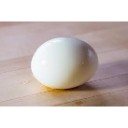begg: (30, 38, 99, 89)
